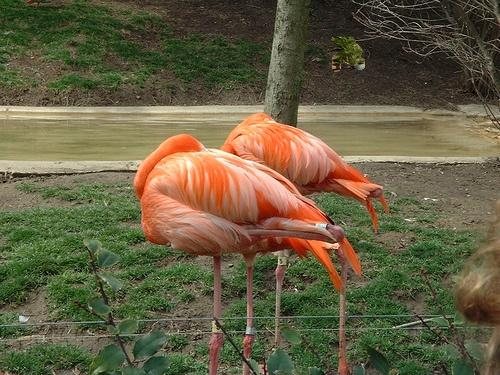tampered: (332, 37, 365, 72)
